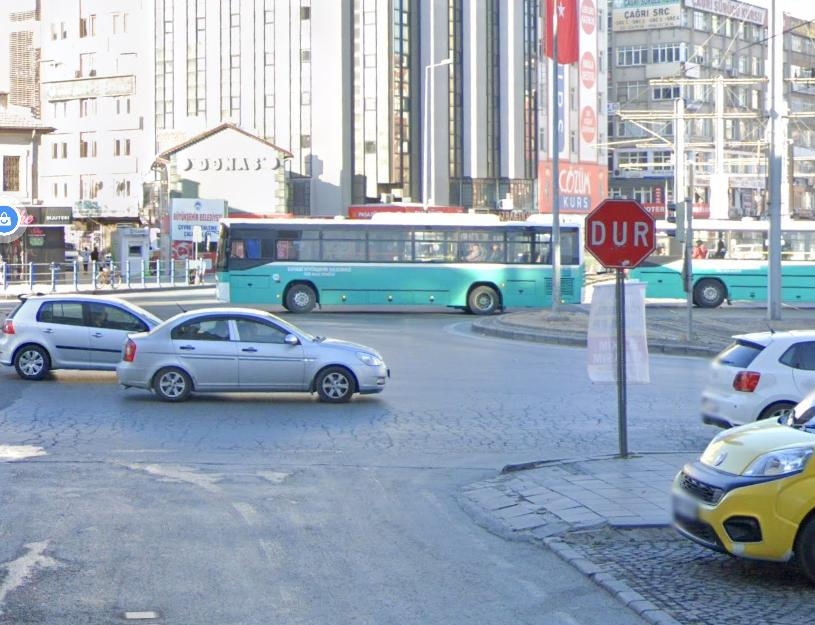stop: (581, 198, 655, 267)
